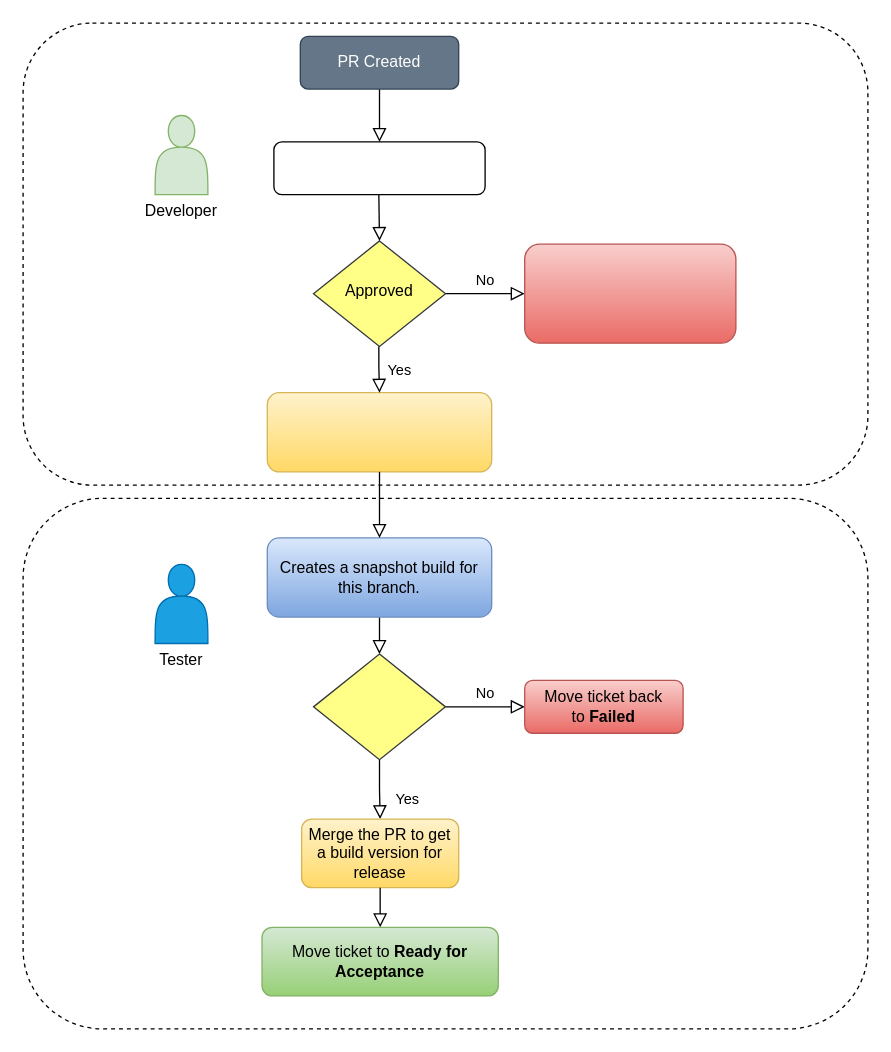
The diagram is 891 pixels wide and 1052 high, and some of its shapes have lost their labels. The box of each missing label's shape, as (x1, y1, x2, y2) in pixels:
1. Do not merge 2. Update Jira ticket status to Ready for Testing: (266, 391, 492, 472)
if changes are requested, then update the ticket to In Progress: (523, 243, 736, 343)
Testing passed: (312, 653, 446, 760)
Update Jira ticket status to Code Review: (273, 141, 485, 195)
